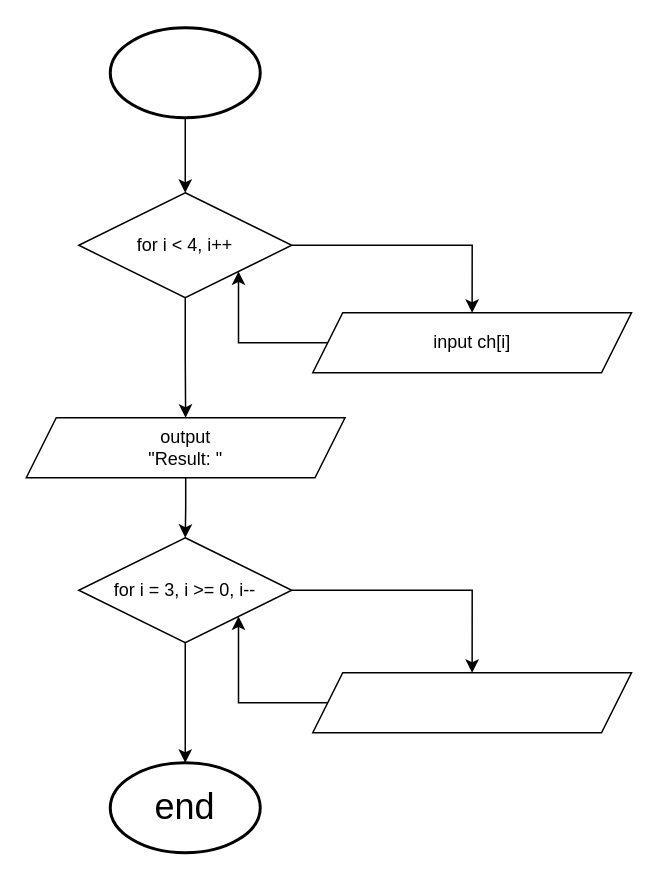
Some shapes in this 659 by 879 pixel diagram are drawn without their labels. The shapes that lost their labels are listed below. From the top down, each one's box as (x1, y1, x2, y2) in pixels, then its label:
(108, 26, 261, 118): start
(311, 671, 632, 733): output ch[i]
